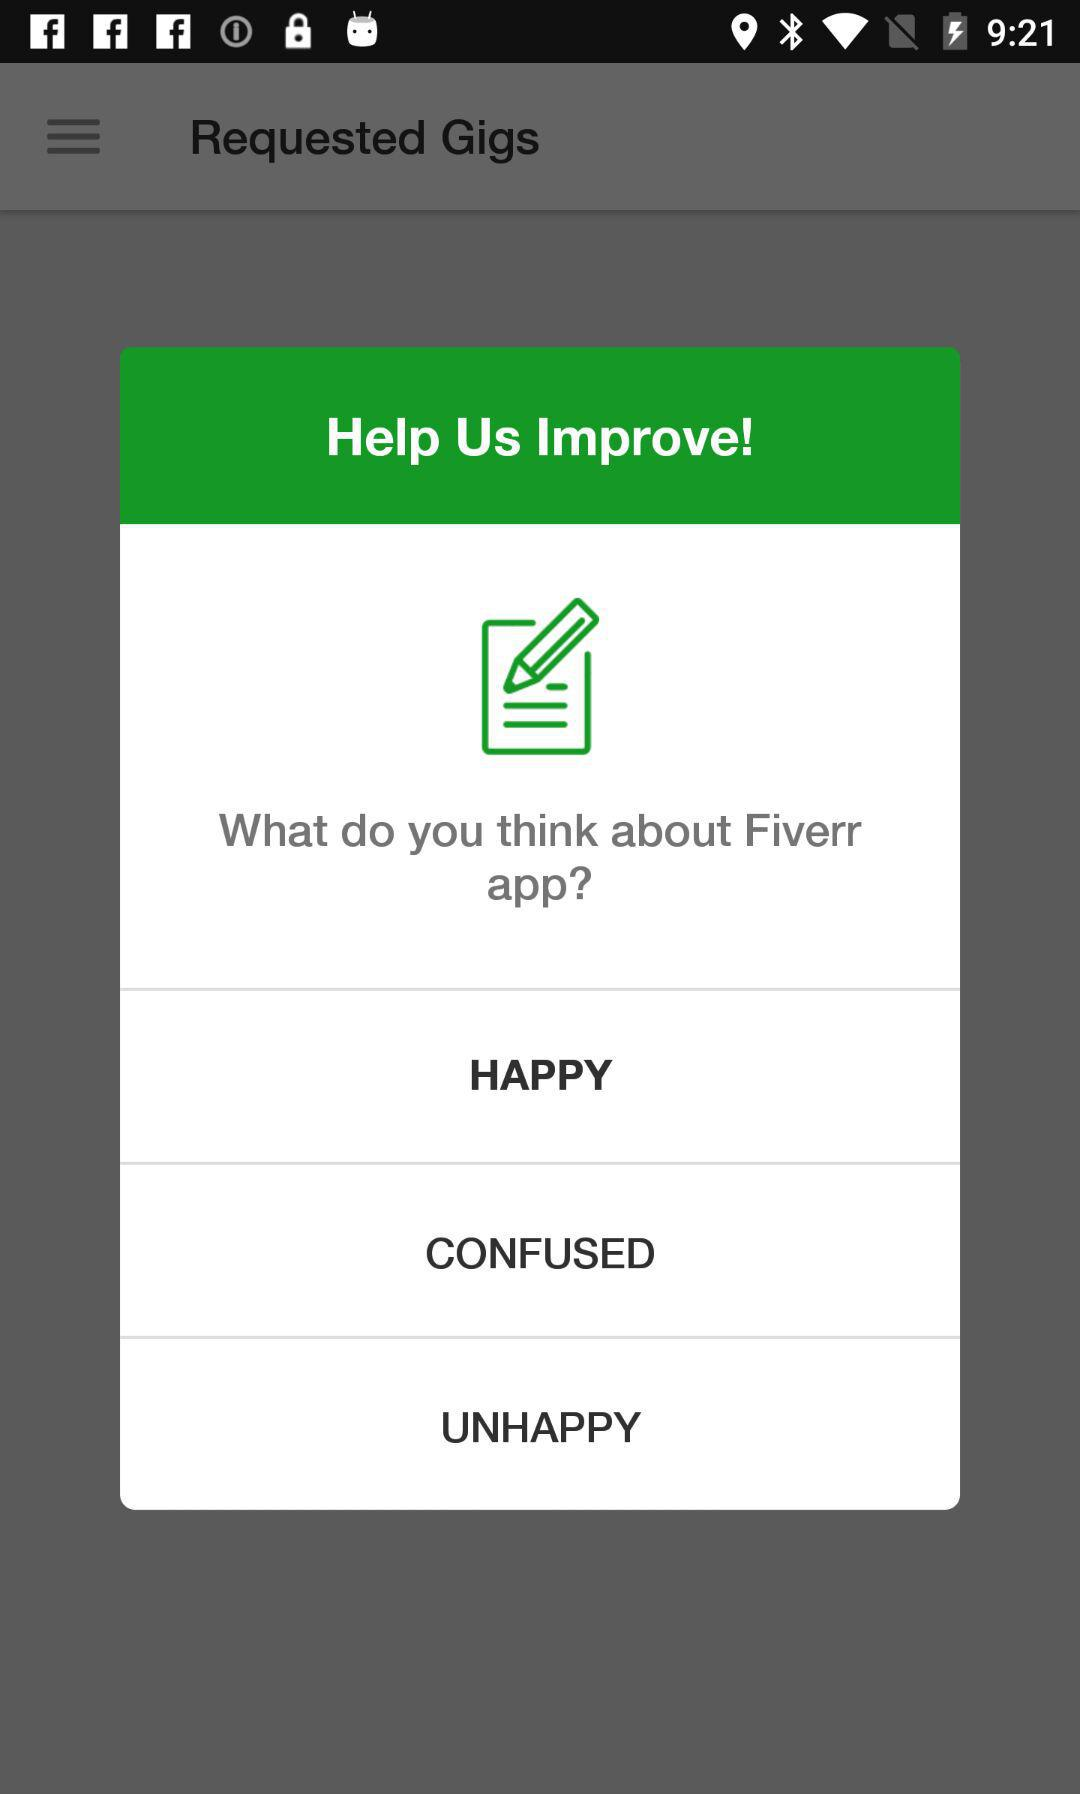Icon: (482, 598, 600, 753), (47, 119, 101, 156)
Modal: (120, 347, 960, 1510)
Text: (217, 812, 863, 909), (329, 416, 752, 466), (192, 119, 541, 167), (427, 1238, 655, 1270), (442, 1410, 642, 1443), (471, 1060, 612, 1090)
UpperTaskBar: (1, 1, 1080, 64)
